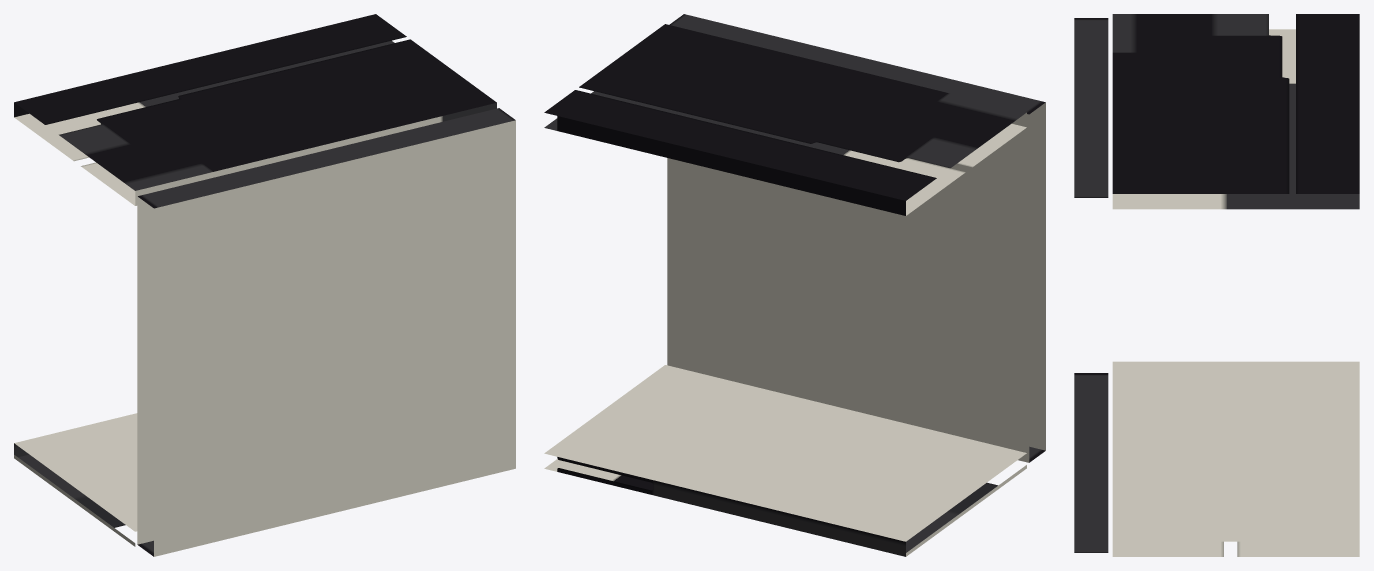
The model's file is section-23.obj.
3 views of the same model, side by side, from view 1: azimuth 30°, elevation 25°; view 2: azimuth 150°, elevation 25°; view 3: azimuth 270°, elevation 25° (orthographic).
Size of the model in its own units: 1 by 0.94 by 0.67.
